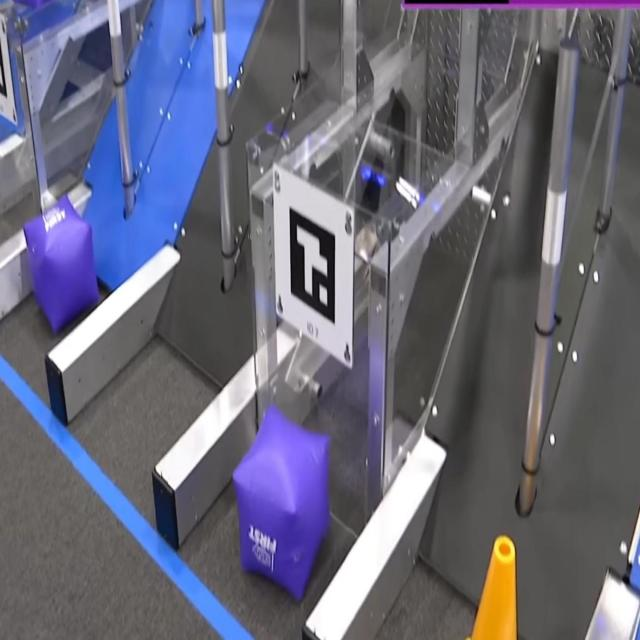frc_cone: (464, 524, 520, 640)
frc_cube: (234, 405, 329, 594), (24, 199, 99, 334)
